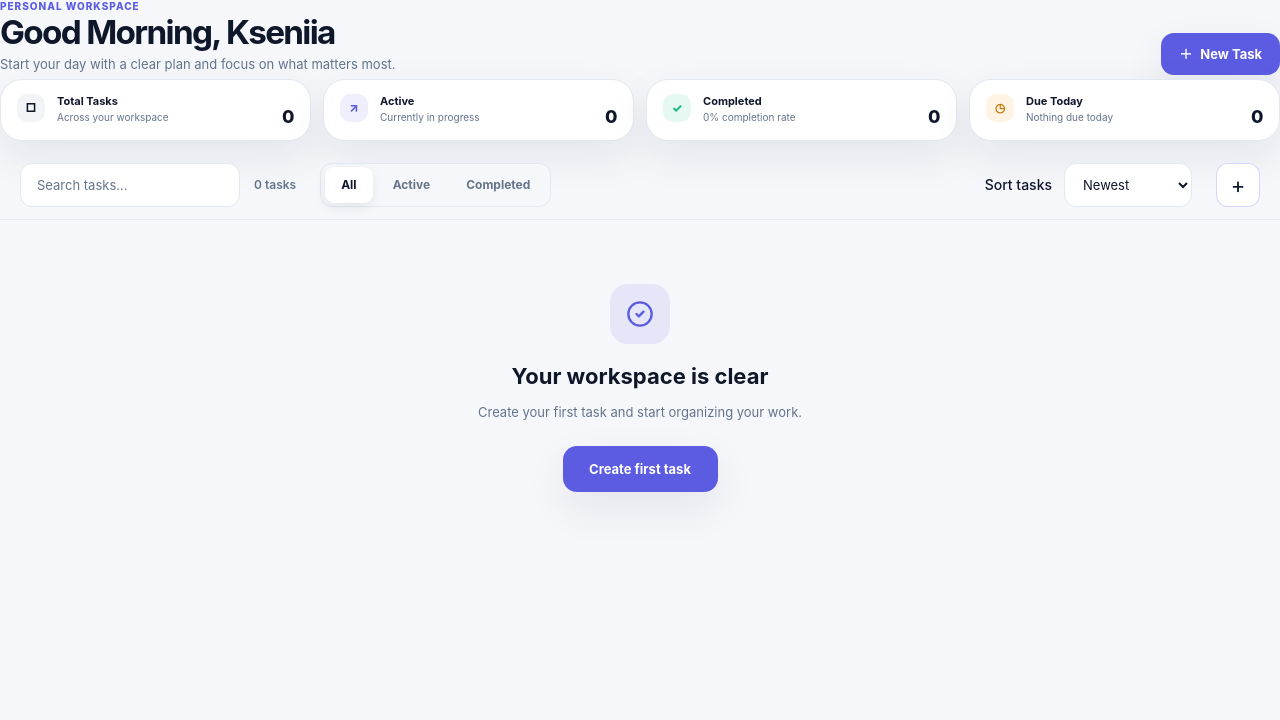
Test case: Overview › opens create task modal
The width and height of the screenshot is (1280, 720).
Click the button "＋ New Task". click: {"x": 1221, "y": 54}
box: [1161,33,1279,75]
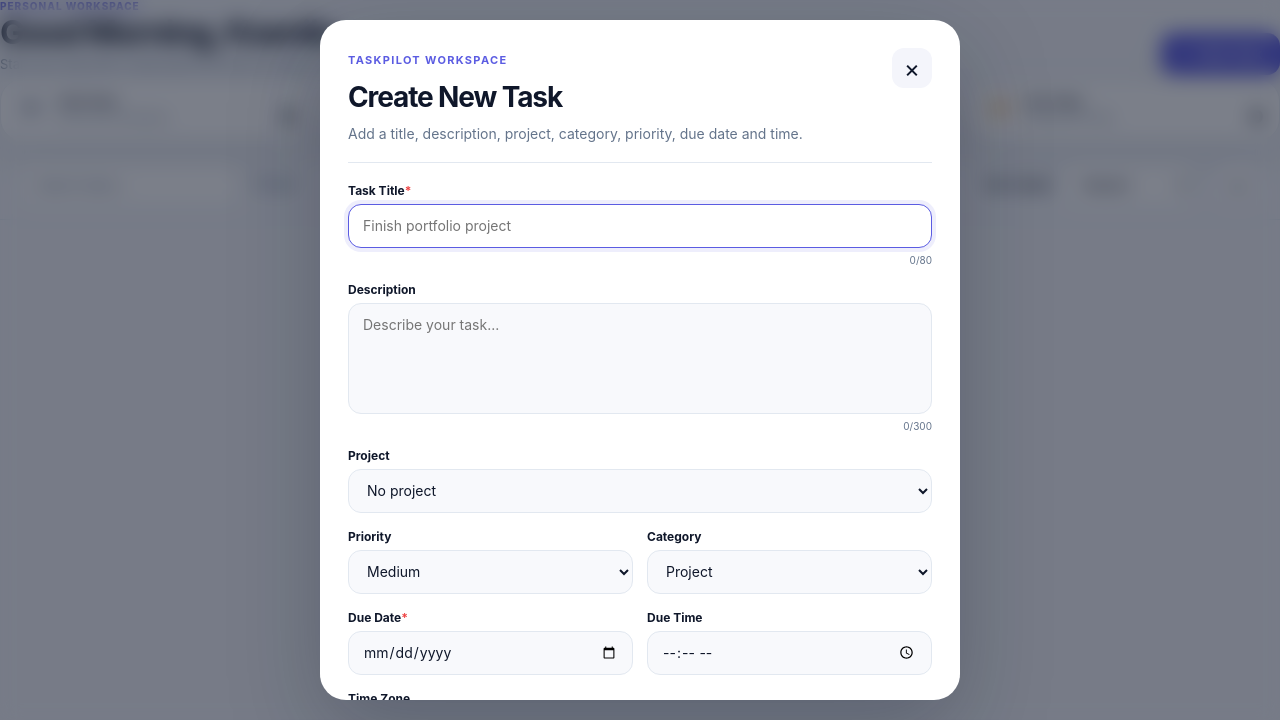
Expected: the dialog is shown, [320,20,960,700]
